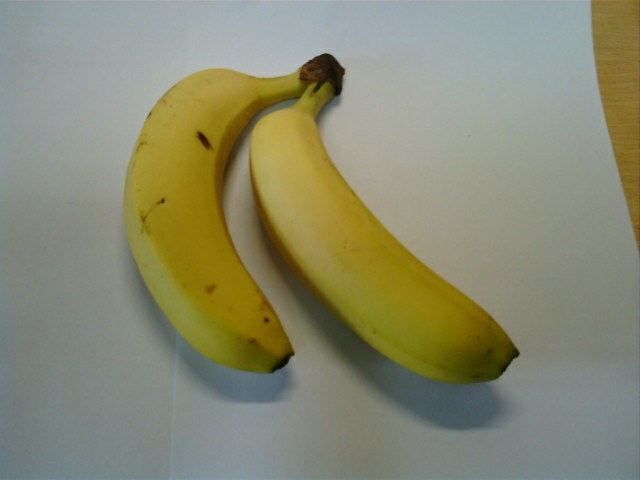fresh_banana: (250, 103, 518, 386)
normal_banana: (122, 64, 294, 371)
